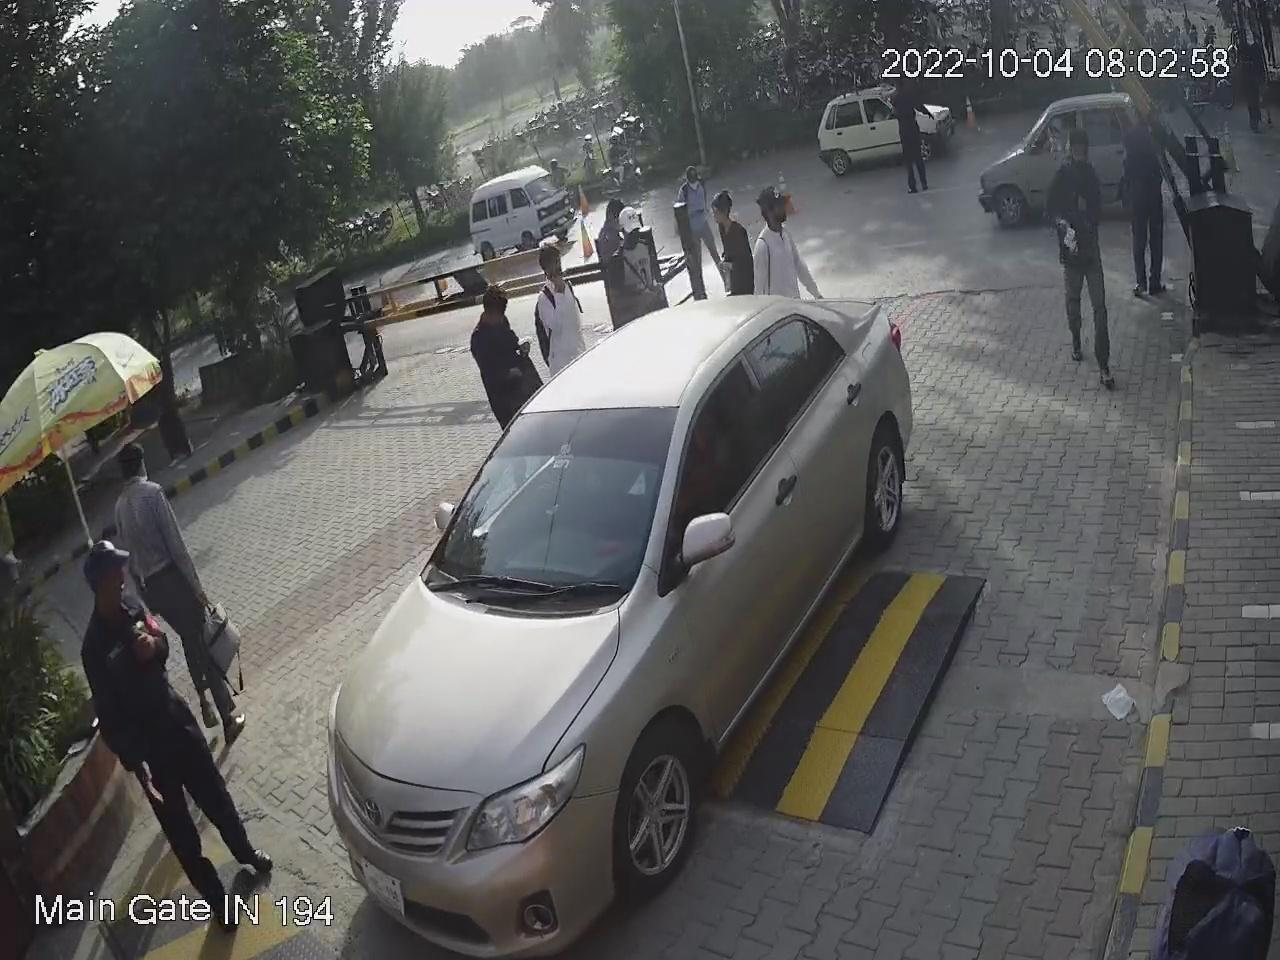windshield: (410, 402, 695, 617)
